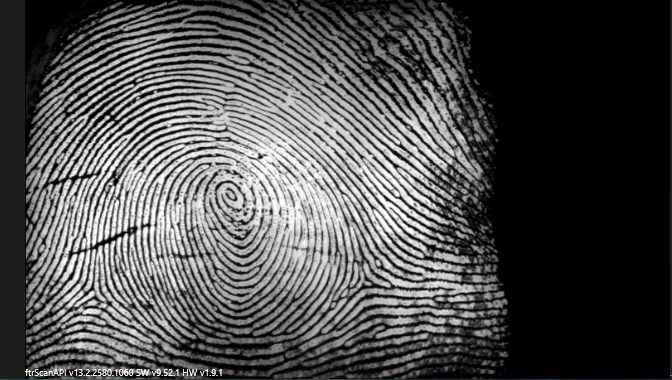nucelo: (212, 176, 246, 223)
verticilo: (73, 276, 105, 309), (349, 262, 374, 295)
